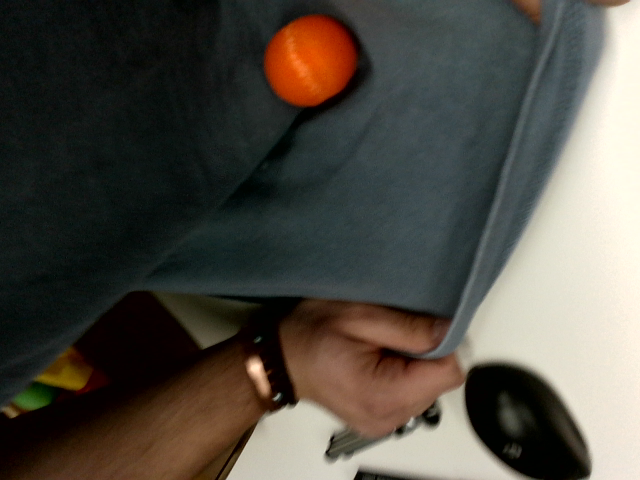orange: (247, 0, 373, 121)
